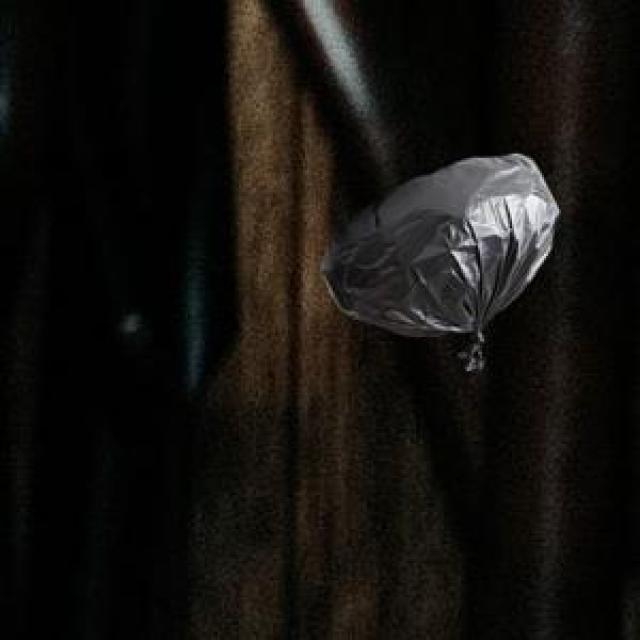miscellaneous trash: (318, 149, 555, 367)
